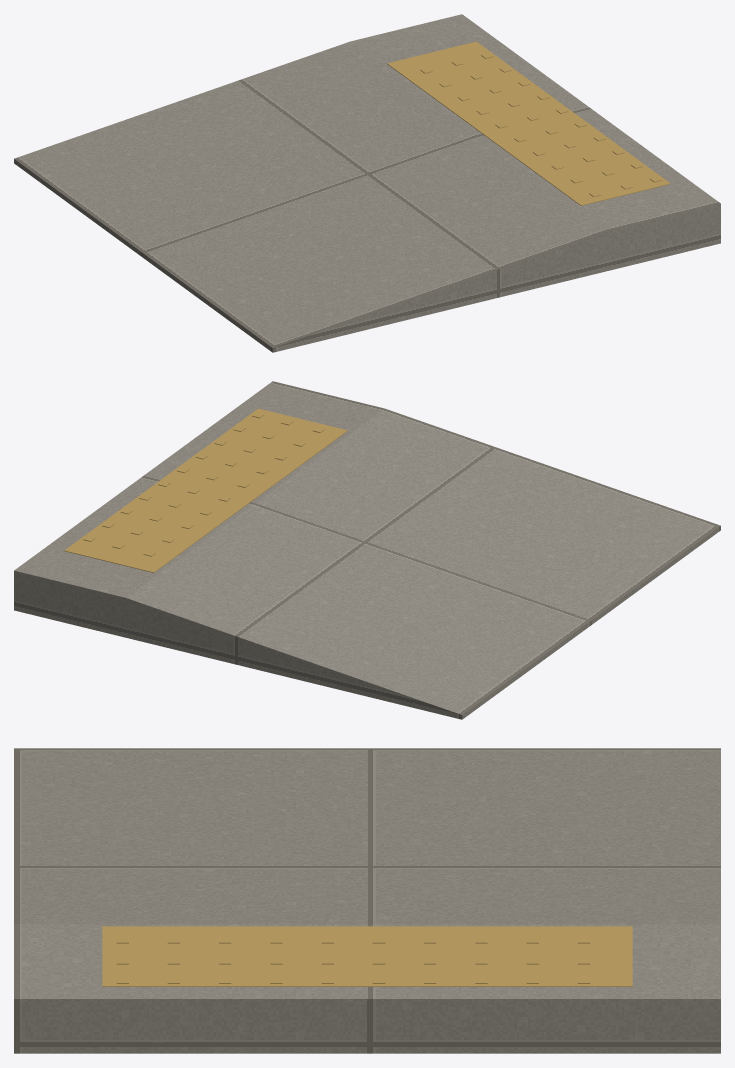
The model's file is MS_RD_16_CurbRamp.glb.
3 views of the same model, one above another, from view 1: azimuth 30°, elevation 25°; view 2: azimuth 150°, elevation 25°; view 3: azimuth 270°, elevation 25° (orthographic). The views are drawn at different scales.
Visible parts, largest first — view 1: Concrete_Landing, Tactile_Plate; view 2: Concrete_Landing, Tactile_Plate; view 3: Concrete_Landing, Tactile_Plate.
Boxes of the visible parts, left/top/right/bottom form: Concrete_Landing: left=14, top=14, right=720, bottom=352; Tactile_Plate: left=387, top=41, right=670, bottom=205; Concrete_Landing: left=14, top=381, right=720, bottom=719; Tactile_Plate: left=64, top=408, right=347, bottom=572; Concrete_Landing: left=14, top=748, right=720, bottom=1053; Tactile_Plate: left=102, top=926, right=632, bottom=986.
Size of the model in its own units: 2 by 0.176 by 2.
Materials: 2 (1 with a texture image).
